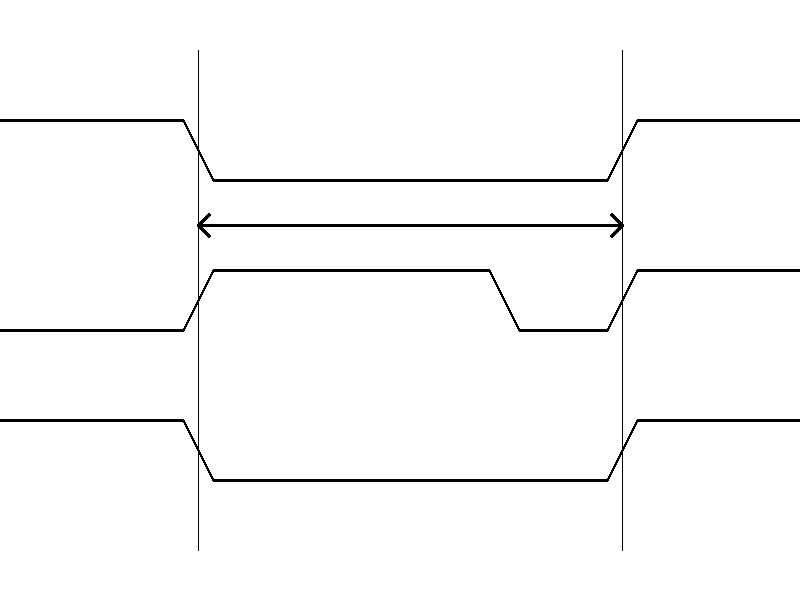double_arrow: (198, 210, 622, 240)
